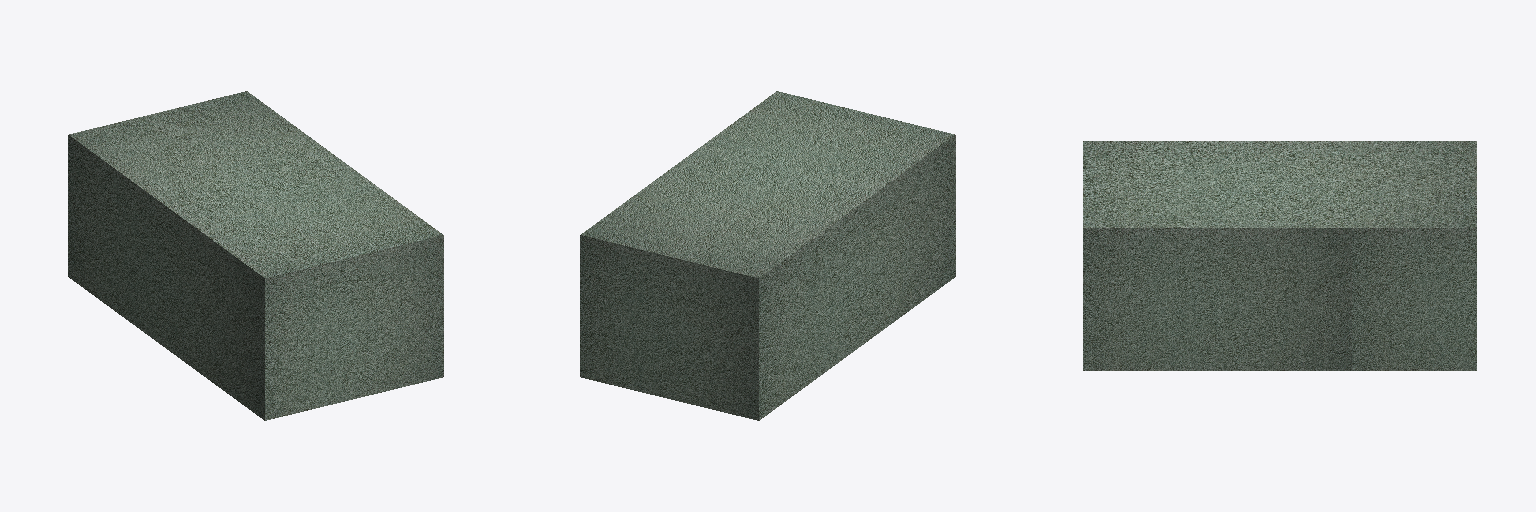
3 renders of one model, left to right at view 1: azimuth 30°, elevation 25°; view 2: azimuth 150°, elevation 25°; view 3: azimuth 270°, elevation 25°, orthographic.
Parts seen in each view (by area): view 1: L_VertFrontLeft_Cube.009; view 2: L_VertFrontLeft_Cube.009; view 3: L_VertFrontLeft_Cube.009.
Boxes of the visible parts, x1,y1,x2,y2 form: L_VertFrontLeft_Cube.009: [68, 91, 443, 420]; L_VertFrontLeft_Cube.009: [580, 91, 955, 420]; L_VertFrontLeft_Cube.009: [1083, 141, 1476, 370].
Size of the model in its own units: 10.49 by 8 by 20.01.
Materials: 1 (1 with a texture image).